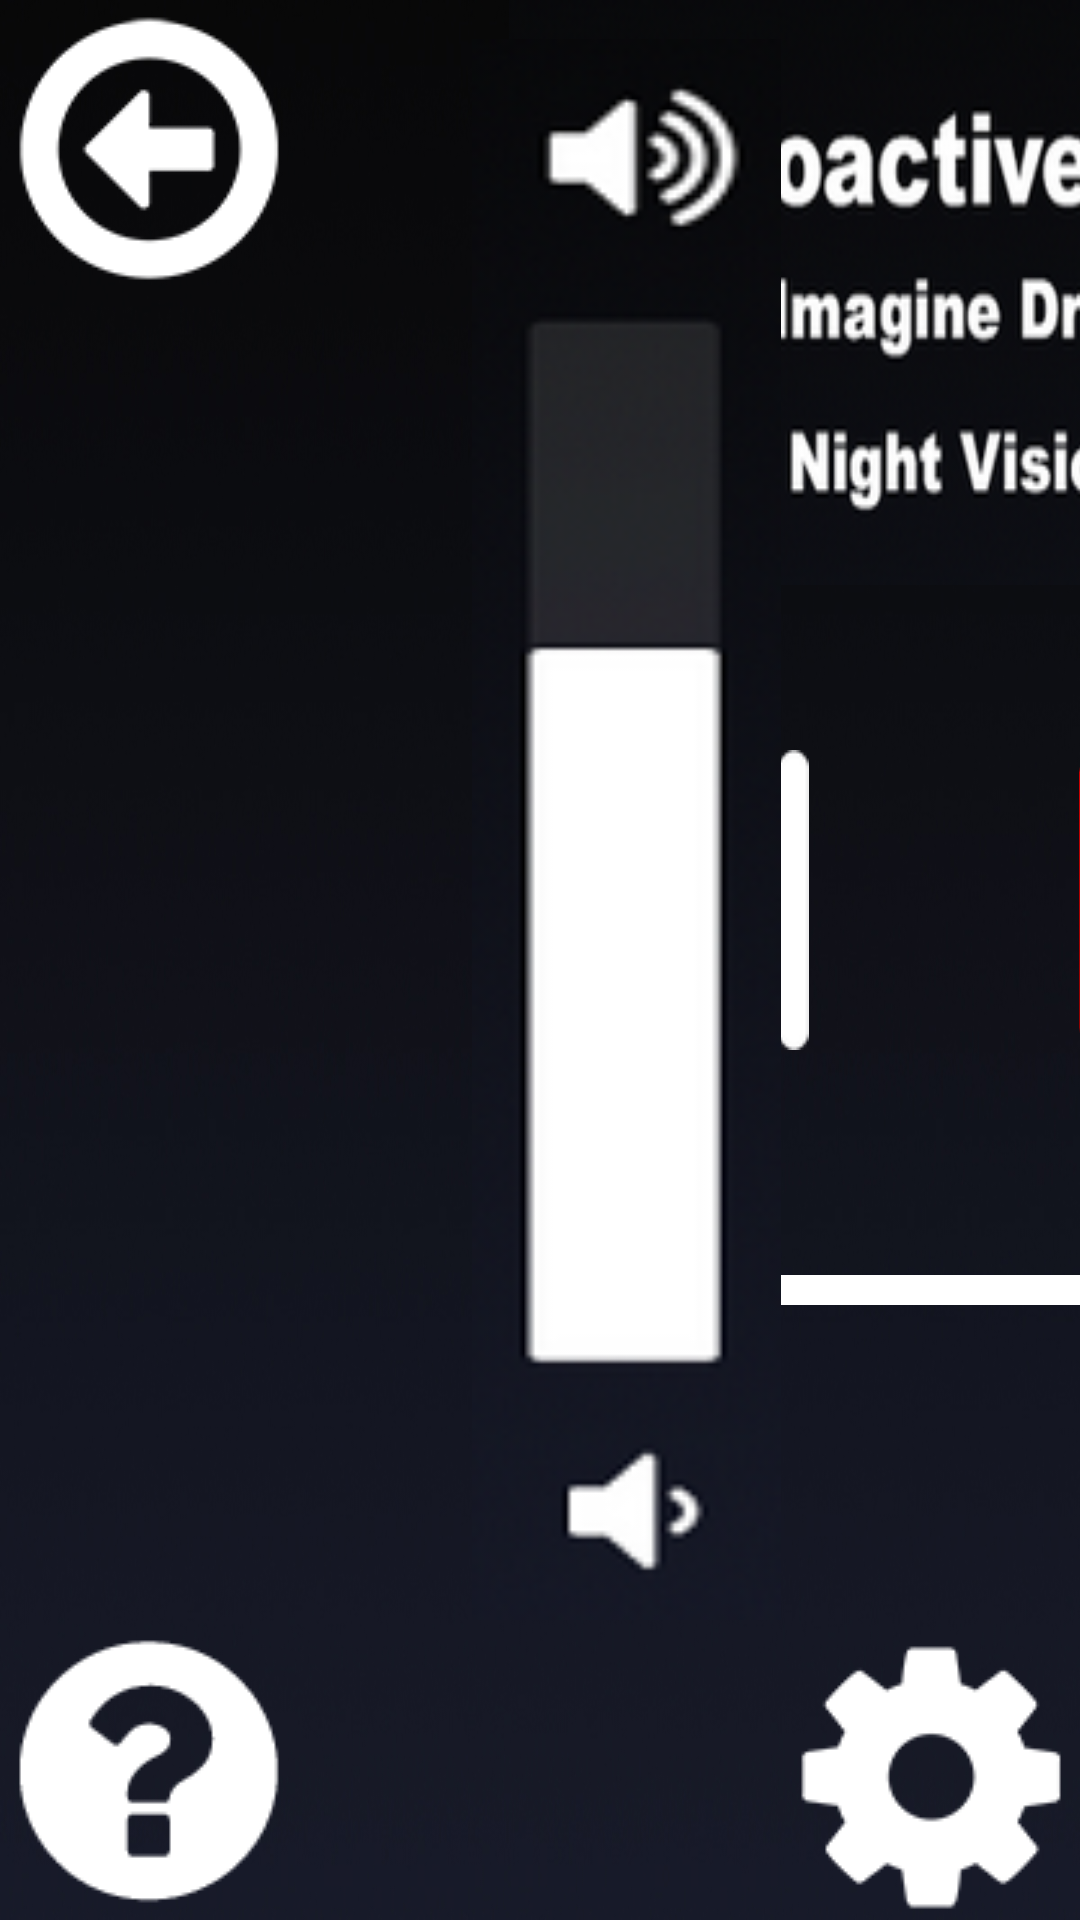

Point at icon controls on the screen. Image size 1080 x 1920, points as [x,y].
help: [149,1771]
settings: [931,1777]
